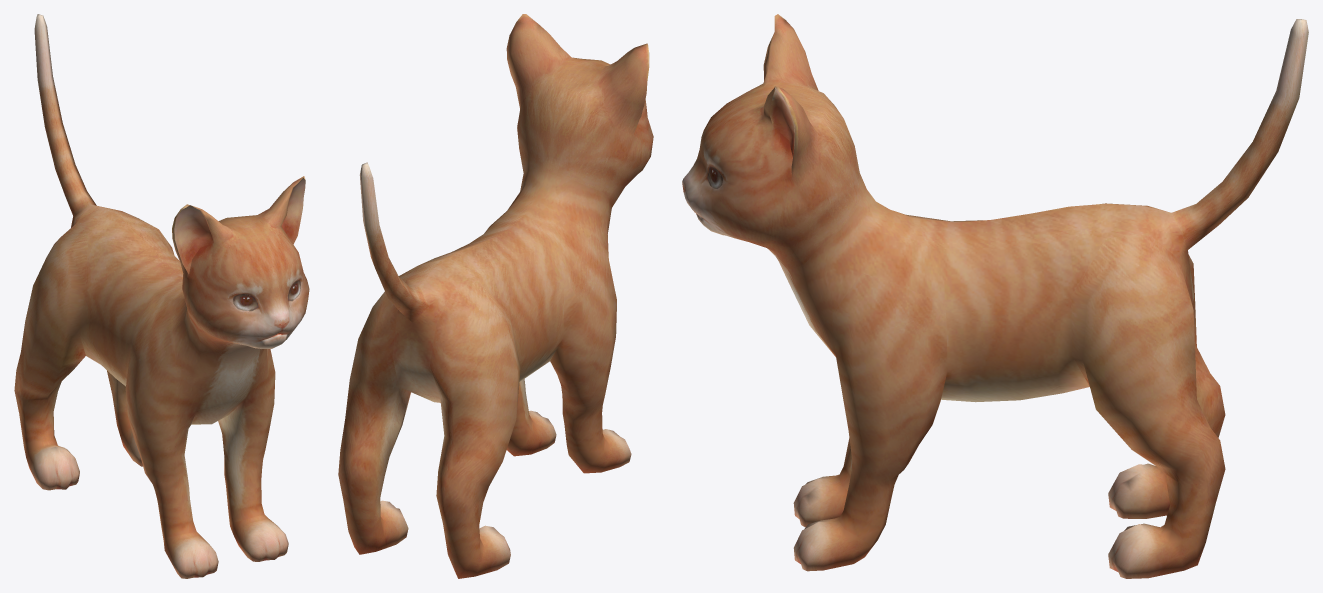
Rendered from cat.fbx.
3 renders of one model, left to right at view 1: azimuth 30°, elevation 25°; view 2: azimuth 150°, elevation 25°; view 3: azimuth 270°, elevation 25°, orthographic. The views are drawn at different scales.
Visible parts, largest first — view 1: cat; view 2: cat; view 3: cat.
Boxes of the visible parts, x1,y1,x2,y2 form: cat: (14,14,309,578); cat: (338,14,653,578); cat: (682,14,1308,578).
Size of the model in its own units: 186 by 489 by 532.
